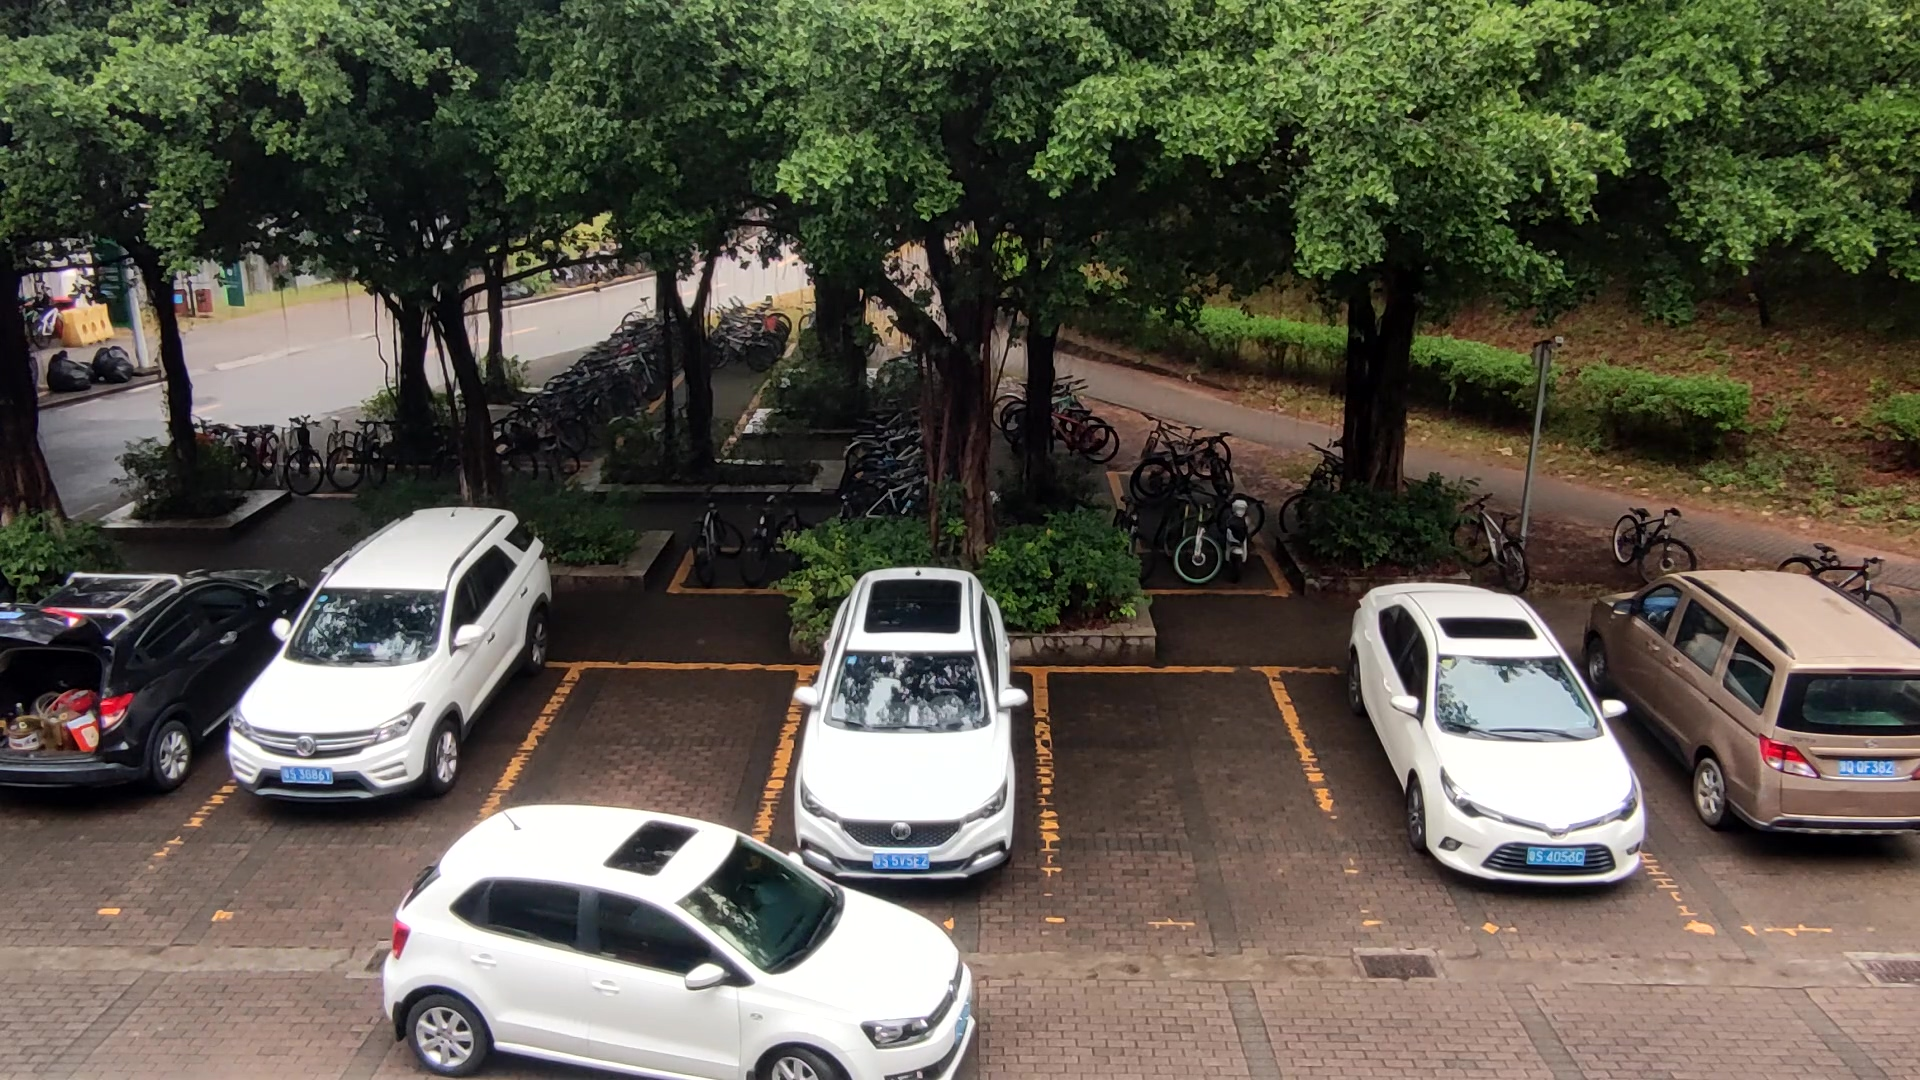space-empty: (438, 644, 807, 954), (1020, 657, 1383, 959)
space-occupied: (89, 620, 578, 936), (1263, 665, 1720, 966), (730, 655, 1093, 957), (1551, 663, 1912, 962)
